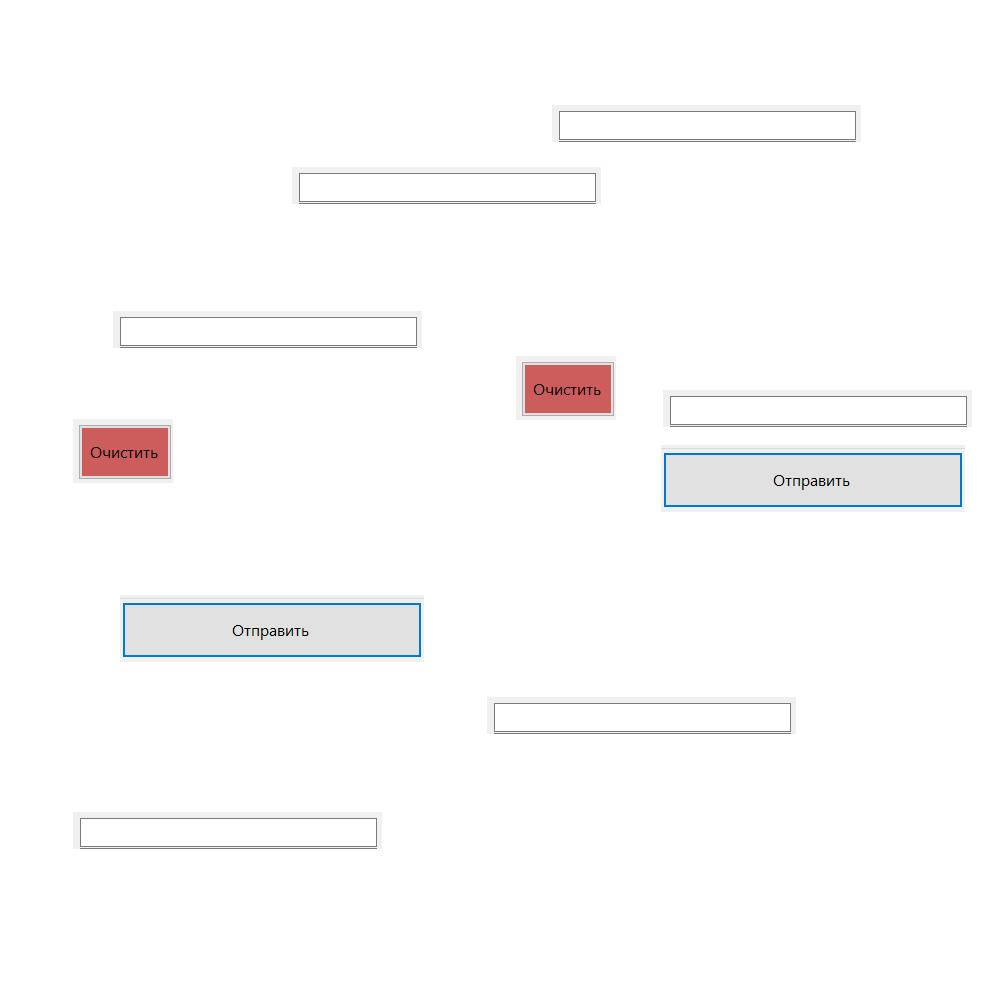Button: (661, 445, 965, 512), (120, 595, 424, 662), (73, 419, 173, 483), (516, 356, 616, 420)
EditText-: (552, 105, 861, 142), (113, 311, 422, 348), (487, 697, 796, 734), (663, 390, 972, 427), (73, 812, 382, 849), (292, 167, 601, 204)
